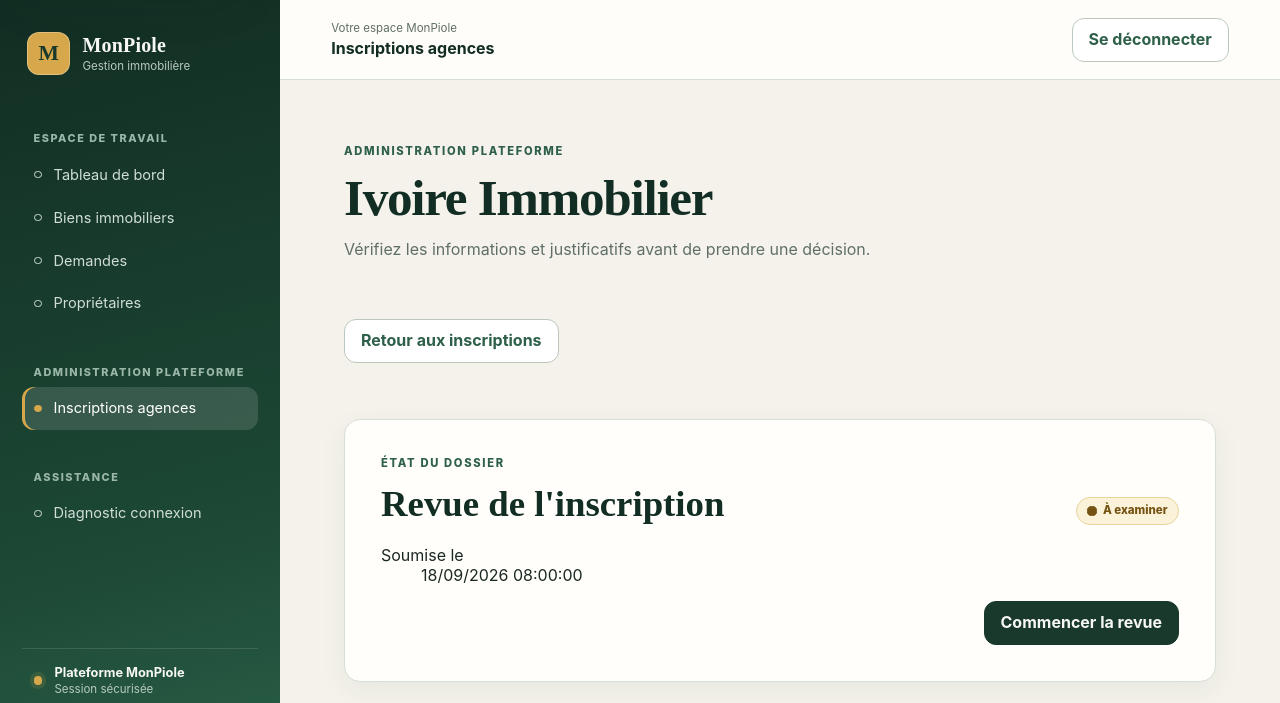
Revue d'une inscription agence › affiche un refus explicite lorsque la revue est interdite
The image size is (1280, 703).
Click the button "Commencer la revue".
click(1081, 623)  # box [984,601,1179,645]
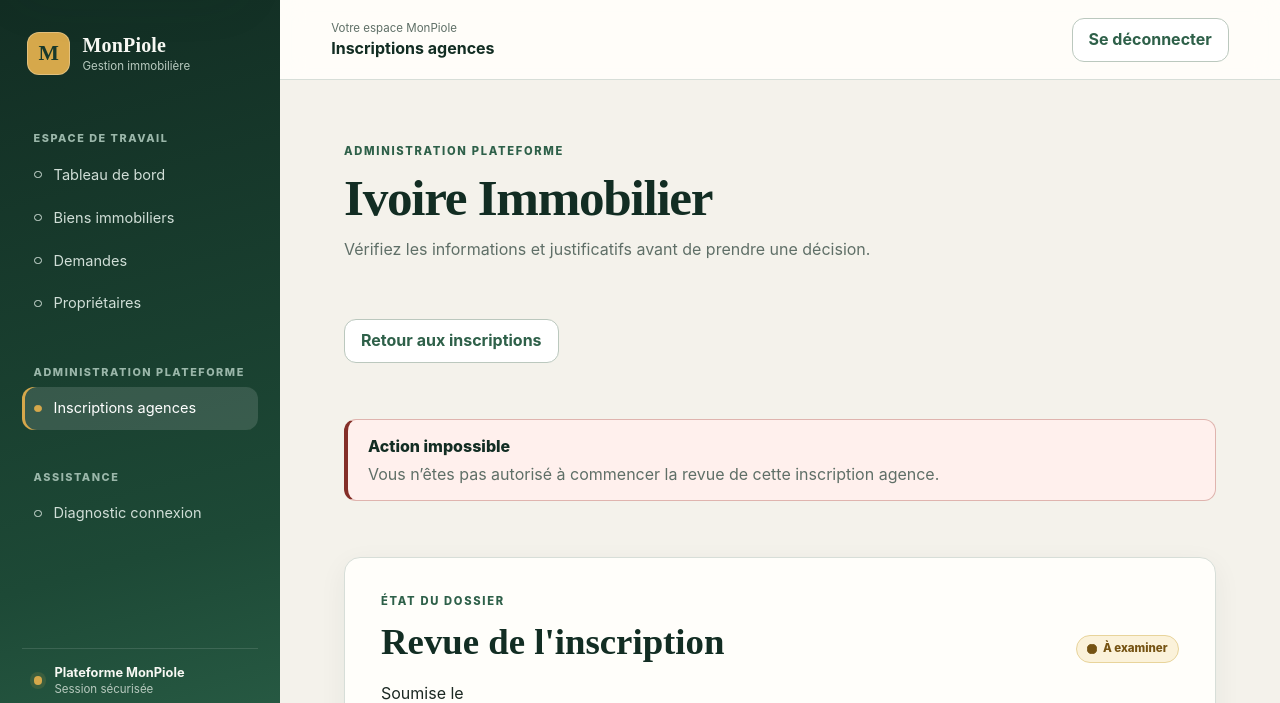
Expected: the message shows "Vous n’êtes pas autorisé à commencer la revue de cette inscription agence.", [368,464,939,484]
